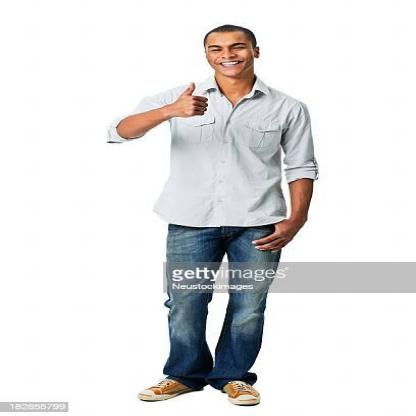palm: (164, 76, 224, 128)
